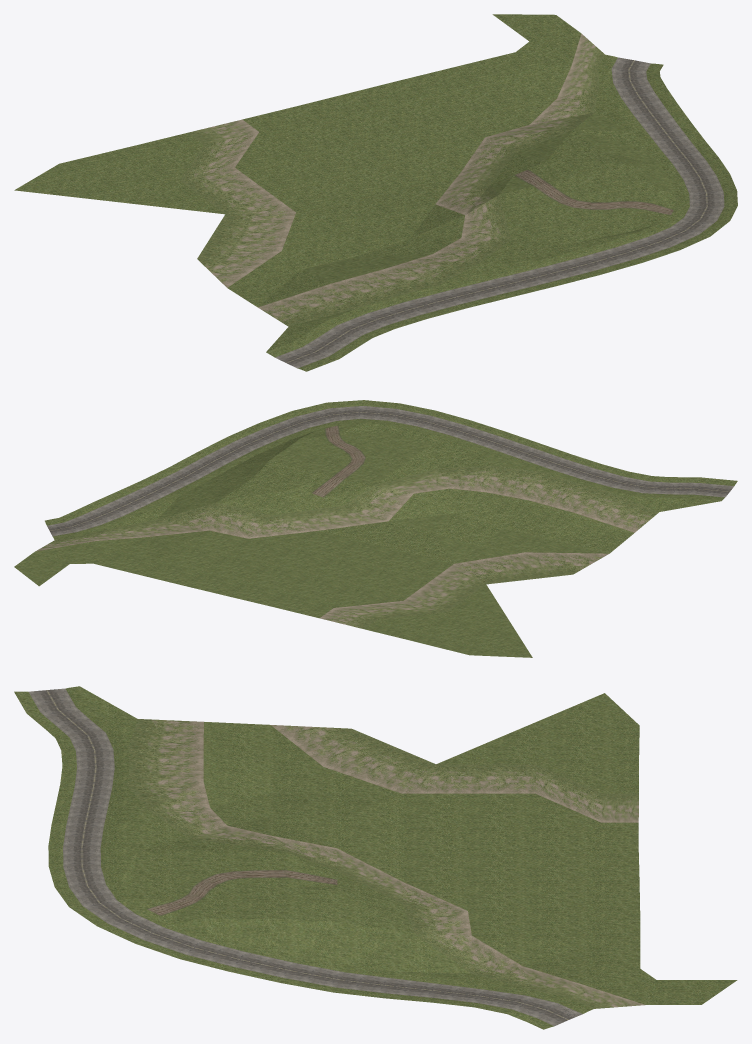
Rendered from ne_bit_12.obj.
3 renders of one model, top to bottom at view 1: azimuth 30°, elevation 25°; view 2: azimuth 150°, elevation 25°; view 3: azimuth 270°, elevation 25°, orthographic. The views are drawn at different scales.
Visible parts, largest first — view 1: ne_bit_12; view 2: ne_bit_12; view 3: ne_bit_12.
Boxes of the visible parts, bbox=[...] form: ne_bit_12: bbox=[14, 14, 737, 371]; ne_bit_12: bbox=[14, 400, 737, 657]; ne_bit_12: bbox=[14, 686, 737, 1029].
Size of the model in its own units: 249 by 11.44 by 231.
7 materials, 7 textured.
